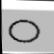no answer: (7, 17, 41, 44)
